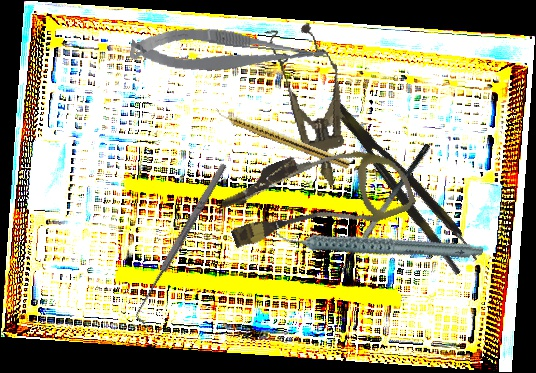Cannula: (214, 122, 418, 270)
Handpiece: (274, 186, 485, 299), (212, 106, 353, 170)
Hook Surgical: (129, 160, 235, 326)
Micro Scissor: (128, 18, 330, 88)
Spatula Surgical: (334, 142, 442, 280)
Speculum: (263, 17, 363, 193)
Tissue Forceps: (327, 87, 481, 277)
